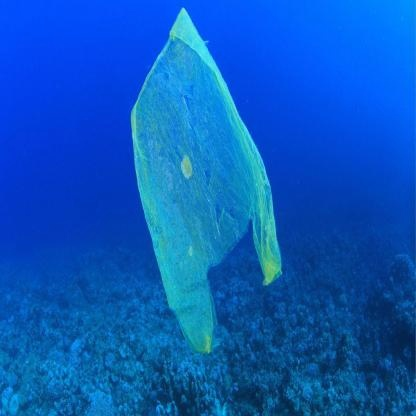pbag: (130, 7, 284, 356)
